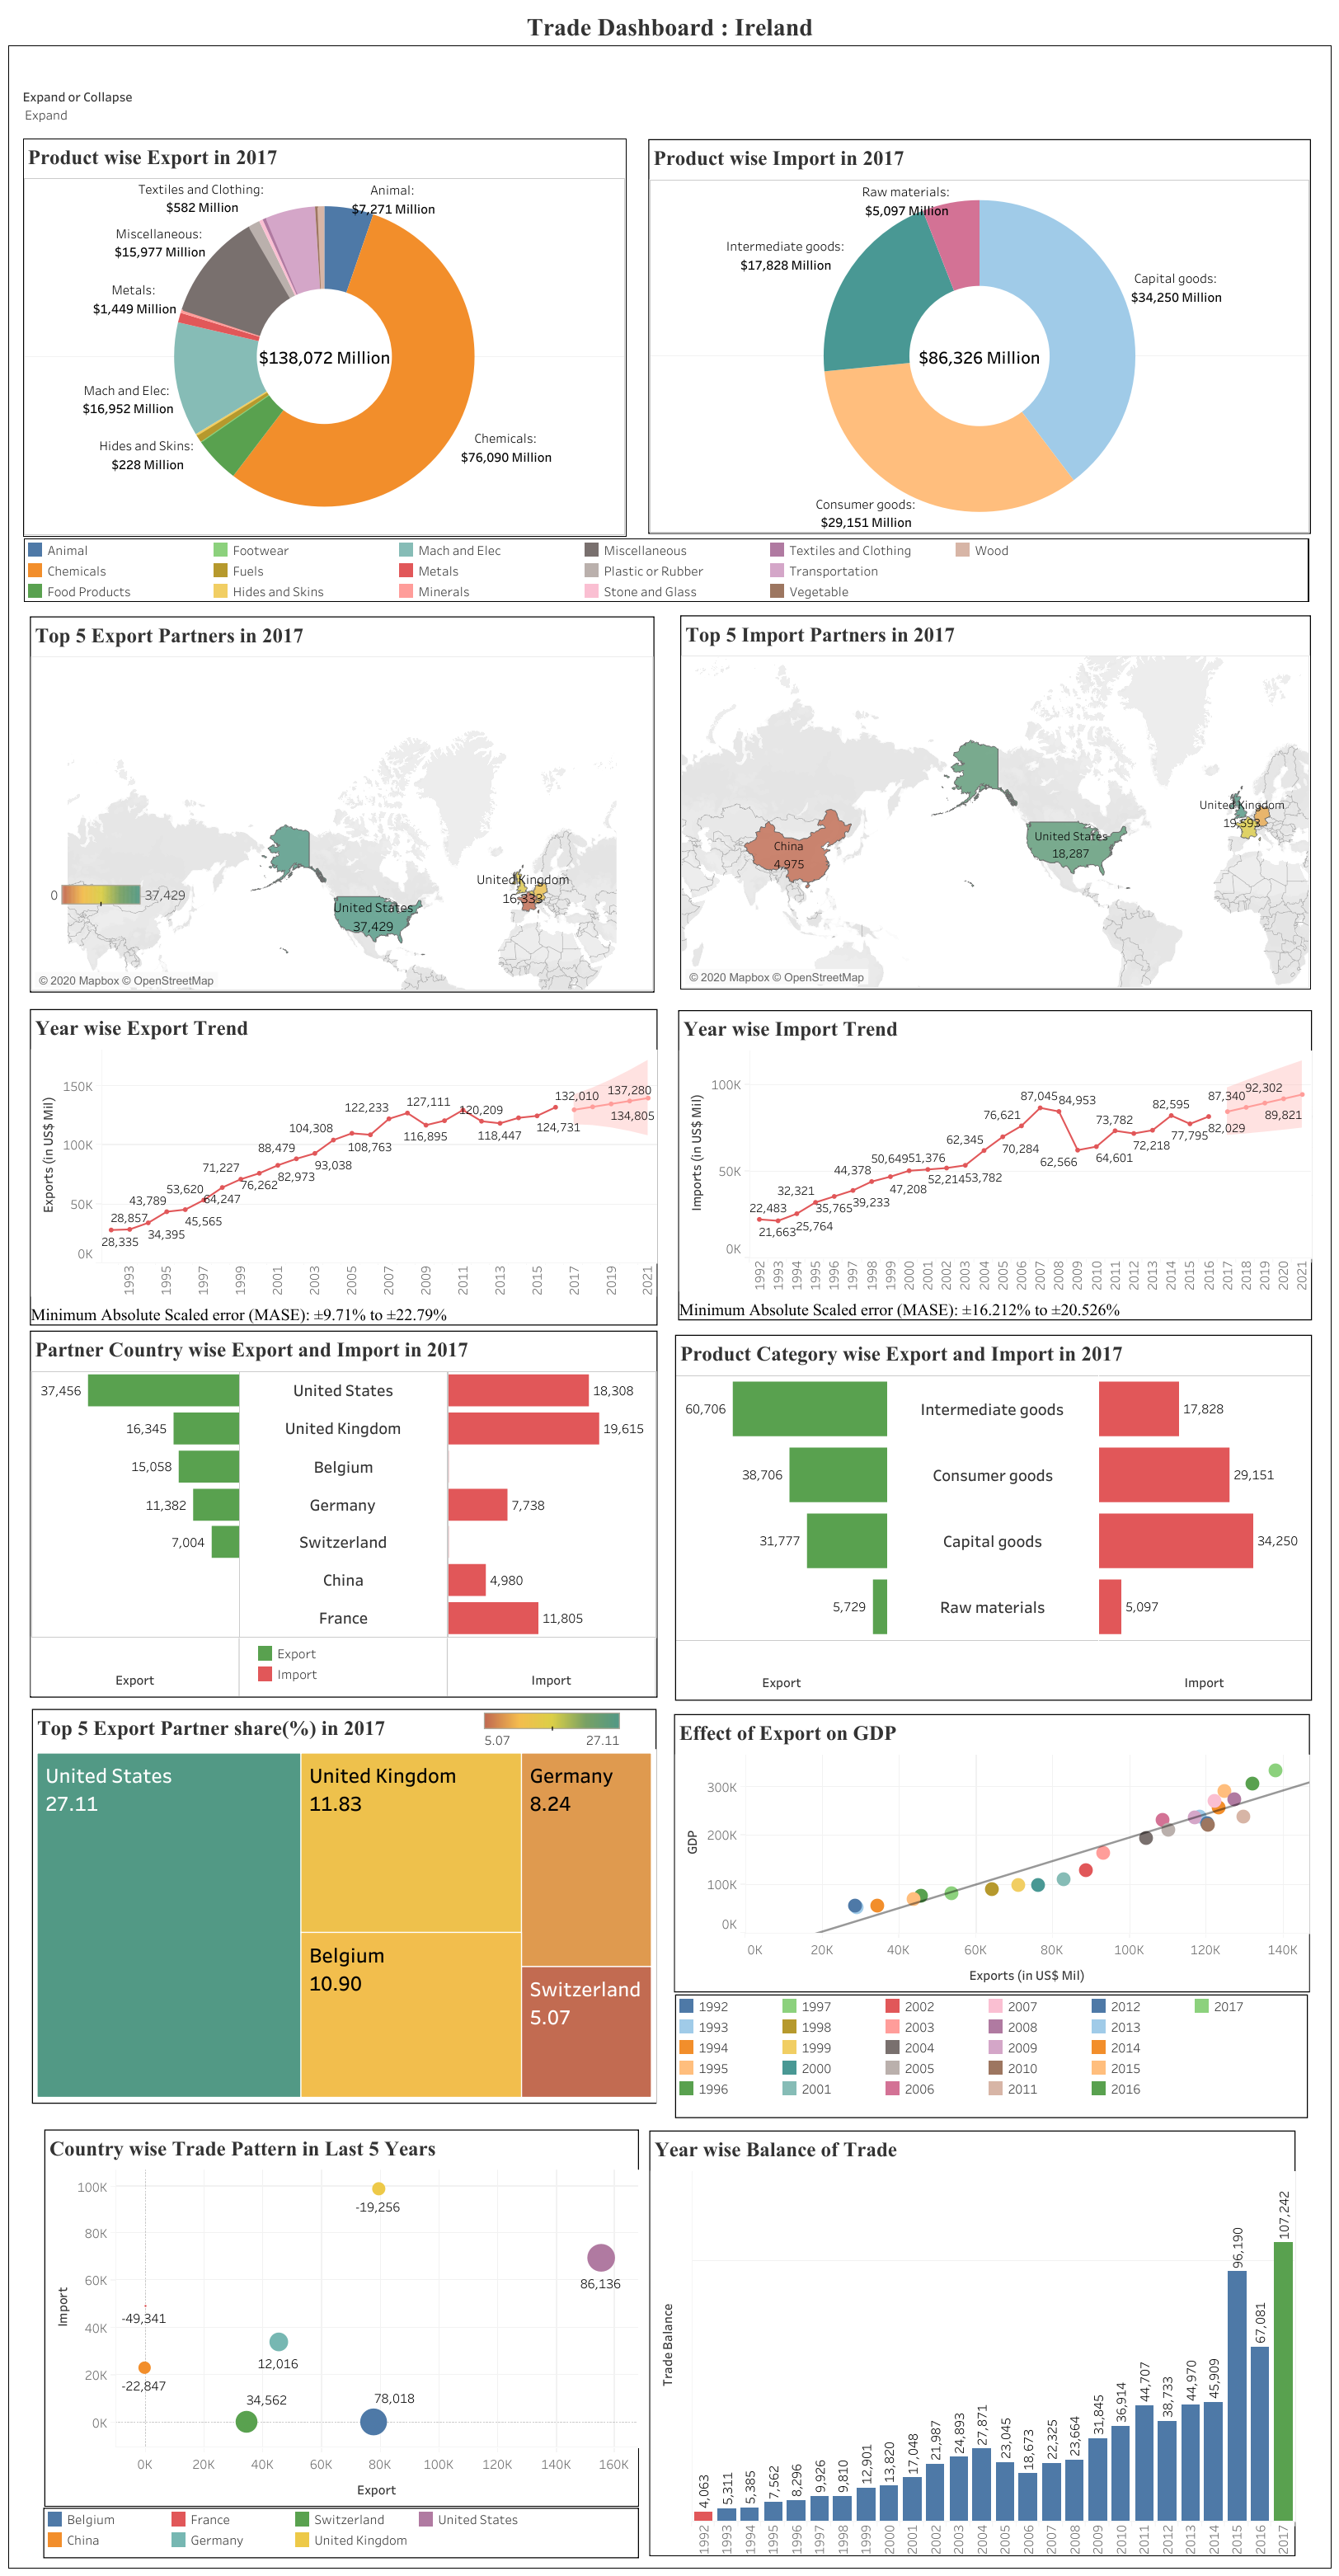

The dashboard page shown, as its layout file describes it:
{"tool":"tableau","page":{"name":"Dashboard 1","canvas":[1300,2500],"ordinal":0},"visuals":[{"type":"title","box":[8,8,1284,35]},{"type":"parameter","param":"[Parameters].[Select Date (copy)]","box":[22,83,160,44]},{"type":"worksheet","title":"Product-Export","mark":"Pie","rows":["Number of Records","Number of Records"],"box":[22,134,586,387]},{"type":"worksheet","title":"Product-Import","mark":"Pie","rows":["Number of Records","Number of Records"],"box":[629,135,643,383]},{"type":"legend","title":"Product-Export","param":"[federated.1szxlev0kmj4tu1008esx1k18ayo].[none:Calculation_653303422295363585:nk","box":[23,522,1247,62]},{"type":"worksheet","title":"Top 5 Import Partner","mark":"Multipolygon","box":[660,597,612,363]},{"type":"worksheet","title":"Top 5 Export partner","mark":"Multipolygon","box":[29,598,606,365]},{"type":"legend","title":"Top 5 Export partner","param":"[federated.1szxlev0kmj4tu1008esx1k18ayo].[sum:Calculation_503558734317232128:qk]","box":[45,855,140,48]},{"type":"worksheet","title":"Timeseries Export","mark":"Line","rows":["Country Growth (%) (copy 2)"],"cols":["Year"],"box":[29,979,609,307]},{"type":"worksheet","title":"Timeseries Import","mark":"Line","rows":["Exports (in US$ Mil) (copy)"],"cols":["Year"],"box":[658,980,615,301]},{"type":"worksheet","title":"Country Wise Export Import","mark":"Bar","rows":["Partner"],"cols":["BOT (copy)","Calculation_503558734351474694","BOT (copy) (copy)"],"box":[29,1291,609,356]},{"type":"worksheet","title":"Product Category Wise Export Import","mark":"Bar","rows":["Product categories"],"cols":["BOT (copy)","Calculation_503558734351474694","BOT (copy) (copy)"],"box":[655,1295,618,355]},{"type":"legend","title":"Product Category Wise Export Import","param":"[federated.1szxlev0kmj4tu1008esx1k18ayo].[:Measure Names]","box":[247,1594,140,46]},{"type":"worksheet","title":"Export Percent Share","mark":"Automatic","box":[31,1658,606,383]},{"type":"legend","title":"Export Percent Share","param":"[federated.1szxlev0kmj4tu1008esx1k18ayo].[sum:Value:qk]","box":[466,1658,140,36]},{"type":"worksheet","title":"Export vs GDP","mark":"Automatic","rows":["Trade Balance (copy)"],"cols":["Country Growth (%) (copy 2)"],"box":[654,1663,617,270]},{"type":"legend","title":"Export vs GDP","param":"[federated.1szxlev0kmj4tu1008esx1k18ayo].[none:Year:ok]","box":[655,1935,614,120]},{"type":"worksheet","title":"Export-Import","mark":"Automatic","rows":["BOT (copy) (copy)"],"cols":["BOT (copy)"],"box":[43,2066,577,366]},{"type":"worksheet","title":"Balance of Trade","mark":"Automatic","rows":["Export (copy)"],"cols":["Year"],"box":[630,2067,627,413]},{"type":"legend","title":"Export-Import","param":"[federated.1szxlev0kmj4tu1008esx1k18ayo].[none:Partner:nk]","box":[42,2433,578,49]}]}

Visuals, with their boxes in screenshot pixels (x1, y1, x2, y2), scaled from the page's 1300x2500 canvas onto the 1339x2576 screenshot:
title: crop(8, 8, 1331, 45)
parameter: crop(22, 86, 187, 131)
"Product-Export" worksheet (Pie marks): crop(22, 138, 627, 537)
"Product-Import" worksheet (Pie marks): crop(648, 139, 1310, 534)
"Product-Export" legend: crop(24, 538, 1308, 602)
"Top 5 Import Partner" worksheet (Multipolygon marks): crop(679, 615, 1310, 990)
"Top 5 Export partner" worksheet (Multipolygon marks): crop(30, 616, 654, 992)
"Top 5 Export partner" legend: crop(46, 881, 190, 930)
"Timeseries Export" worksheet (Line marks): crop(30, 1008, 657, 1325)
"Timeseries Import" worksheet (Line marks): crop(678, 1010, 1311, 1320)
"Country Wise Export Import" worksheet (Bar marks): crop(30, 1330, 657, 1697)
"Product Category Wise Export Import" worksheet (Bar marks): crop(674, 1334, 1311, 1700)
"Product Category Wise Export Import" legend: crop(255, 1643, 398, 1690)
"Export Percent Share" worksheet: crop(32, 1709, 656, 2103)
"Export Percent Share" legend: crop(480, 1709, 624, 1746)
"Export vs GDP" worksheet: crop(674, 1713, 1309, 1991)
"Export vs GDP" legend: crop(674, 1994, 1307, 2118)
"Export-Import" worksheet: crop(45, 2129, 639, 2506)
"Balance of Trade" worksheet: crop(649, 2130, 1294, 2555)
"Export-Import" legend: crop(43, 2507, 639, 2558)
